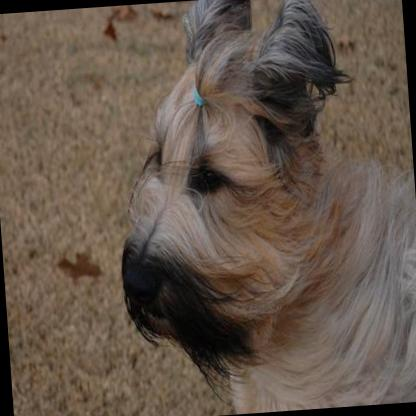briard: (101, 0, 416, 416)
